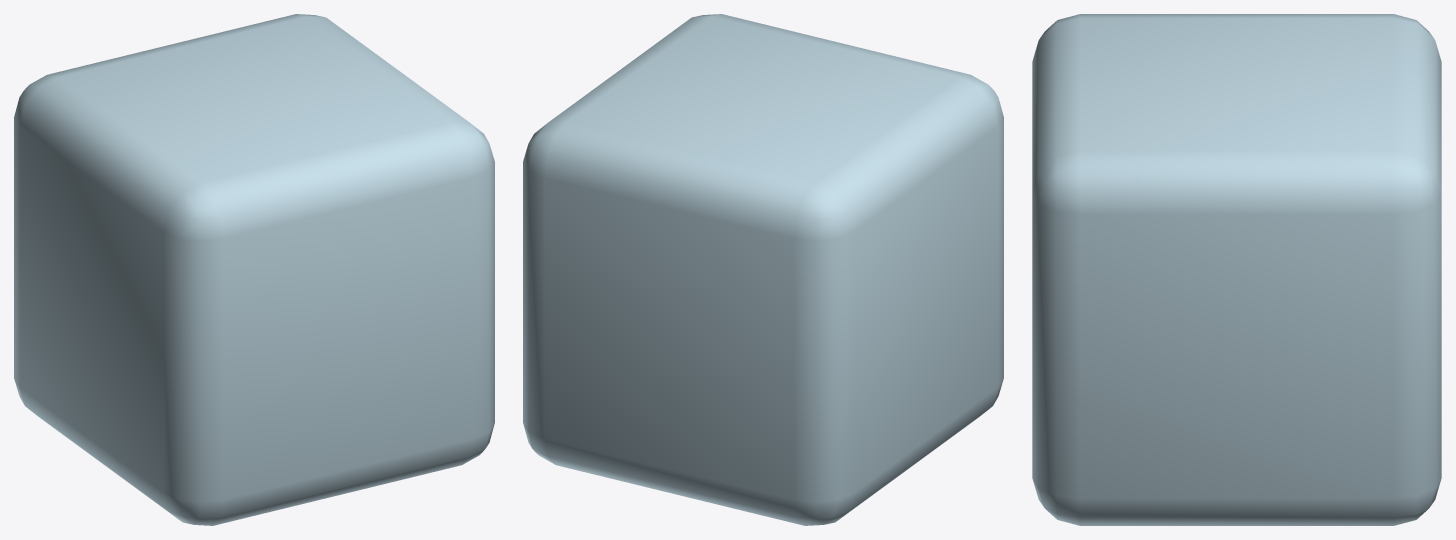
The model's file is modelo.glb.
3 views of the same model, side by side, from view 1: azimuth 30°, elevation 25°; view 2: azimuth 150°, elevation 25°; view 3: azimuth 270°, elevation 25° (orthographic). The views are drawn at different scales.
Visible parts, largest first — view 1: Cube; view 2: Cube; view 3: Cube.
Boxes of the visible parts, bbox=[...] form: Cube: bbox=[14, 14, 494, 525]; Cube: bbox=[523, 14, 1003, 525]; Cube: bbox=[1032, 14, 1441, 525].
Bounding box in the file's own units: 0.025 × 0.025 × 0.025.
